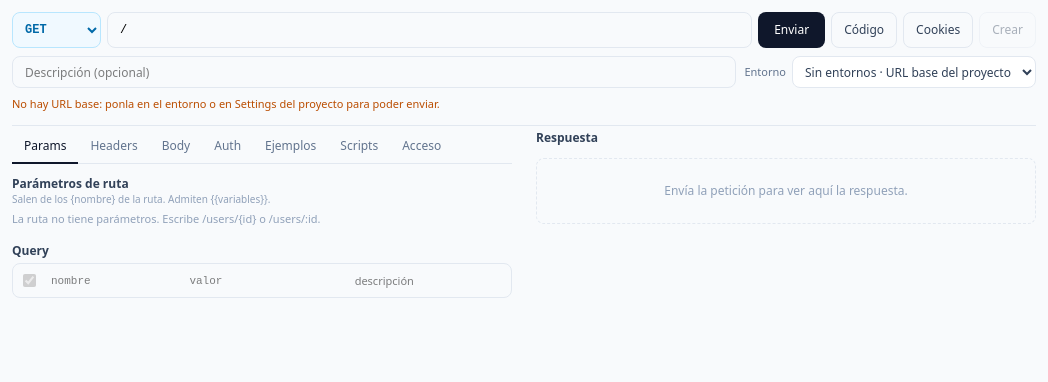
Test: cargar y crear › uno nuevo no tiene permisos por rol que decidir hasta guardarse
Check: the field showing "/" is shown, box [107,12,752,48]
Click the button "Acceso": (422, 146) [390,130,453,164]
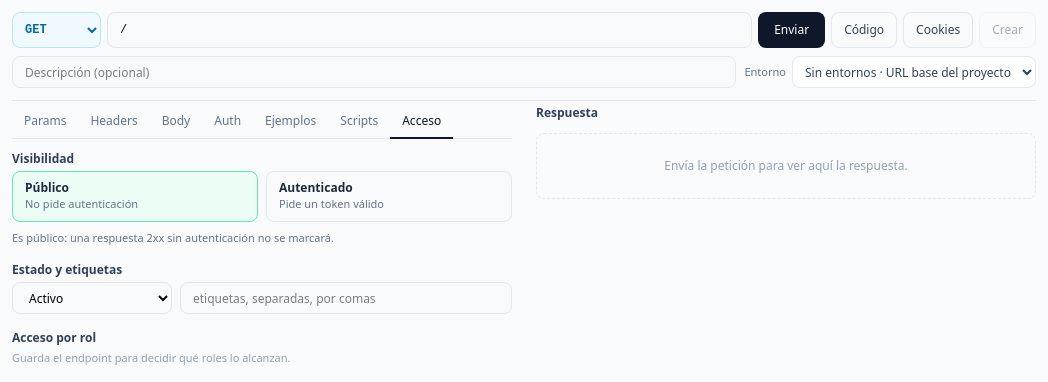
Check: the text "Guarda el endpoint para decidir qué roles lo alcanzan." is shown, box [12,350,290,365]
